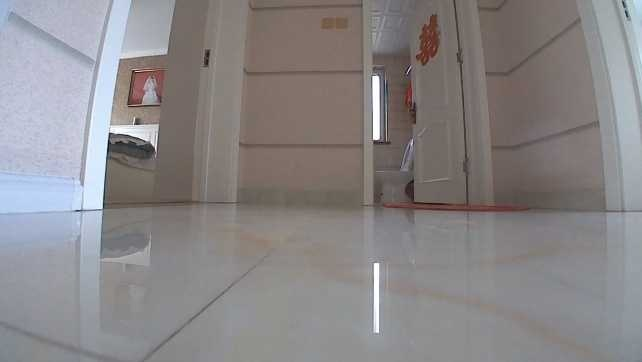bed1: (103, 120, 158, 204)
door_anno: (410, 0, 495, 205)
toilet: (373, 138, 412, 203)
